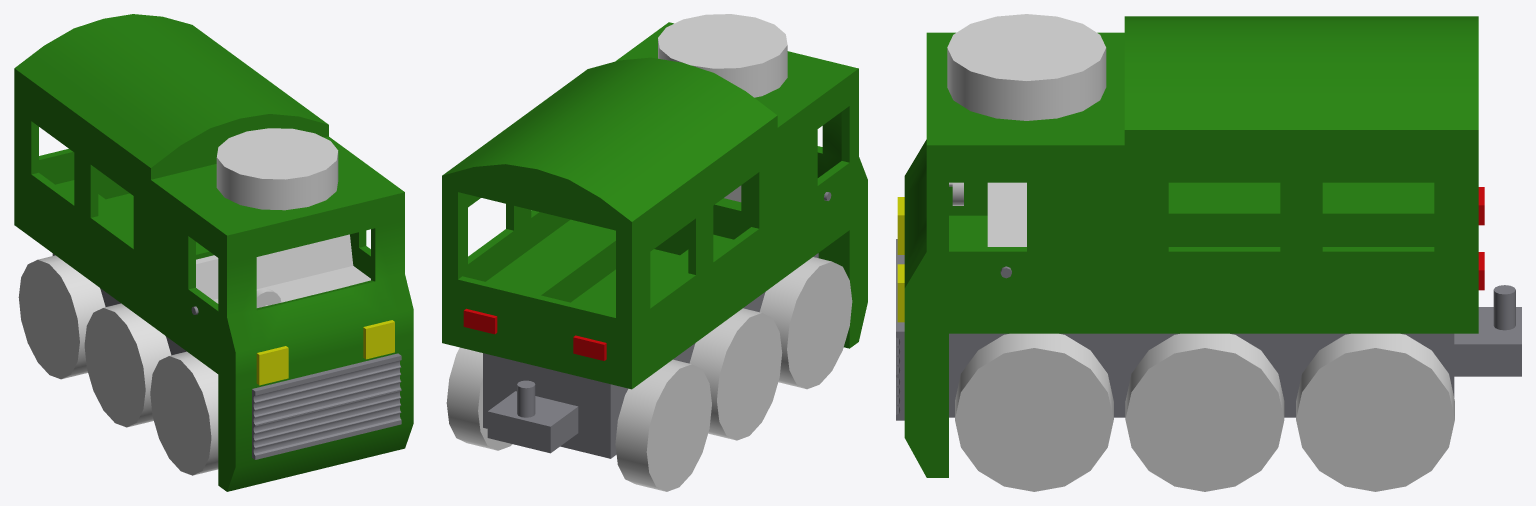
Rendered from FreeTruck.fbx.
3 renders of one model, left to right at view 1: azimuth 30°, elevation 25°; view 2: azimuth 150°, elevation 25°; view 3: azimuth 270°, elevation 25°, orthographic. The views are drawn at different scales.
Visible parts, largest first — view 1: ArmyTruck_low, ArmyTruck_Spear_low, ArmyTruck_Wheels2_low, ArmyTruck_Wheels3_low, ArmyTruck_Wheels1_low, ArmyTruck_Seat_low, ArmyTruck_DoorR_low; view 2: ArmyTruck_low, ArmyTruck_Wheels3_low, ArmyTruck_Wheels1_low, ArmyTruck_Wheels2_low, ArmyTruck_Spear_low, ArmyTruck_DoorR_low; view 3: ArmyTruck_low, ArmyTruck_Wheels2_low, ArmyTruck_Wheels3_low, ArmyTruck_Wheels1_low, ArmyTruck_Spear_low, ArmyTruck_DoorL_low, ArmyTruck_Seat_low, ArmyTruck_DoorR_low.
Part boxes in pixels (x1,y1,x2,y2): ArmyTruck_low: (14, 14, 413, 491); ArmyTruck_Spear_low: (216, 128, 338, 210); ArmyTruck_Wheels2_low: (84, 303, 171, 427); ArmyTruck_Wheels3_low: (18, 255, 105, 379); ArmyTruck_Wheels1_low: (150, 351, 218, 475); ArmyTruck_Seat_low: (196, 234, 370, 303); ArmyTruck_DoorR_low: (188, 287, 218, 363); ArmyTruck_low: (442, 22, 867, 458); ArmyTruck_Wheels3_low: (446, 347, 711, 491); ArmyTruck_Wheels1_low: (759, 257, 852, 389); ArmyTruck_Wheels2_low: (689, 308, 782, 440); ArmyTruck_Spear_low: (658, 14, 787, 97); ArmyTruck_DoorR_low: (817, 161, 849, 241); ArmyTruck_low: (896, 16, 1521, 477); ArmyTruck_Wheels2_low: (1125, 333, 1284, 491); ArmyTruck_Wheels3_low: (1296, 333, 1454, 491); ArmyTruck_Wheels1_low: (955, 333, 1113, 491); ArmyTruck_Spear_low: (947, 14, 1106, 120); ArmyTruck_DoorL_low: (949, 247, 1026, 320); ArmyTruck_Seat_low: (987, 182, 1026, 246); ArmyTruck_DoorR_low: (949, 182, 987, 212).
Bounding box in the file's own units: 6.36 × 9.86 × 14.16.
